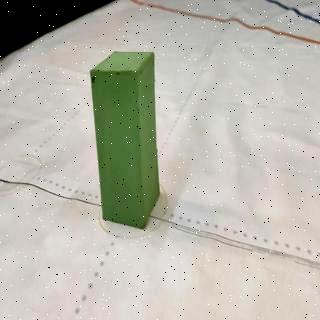greenbox: (89, 50, 162, 227)
